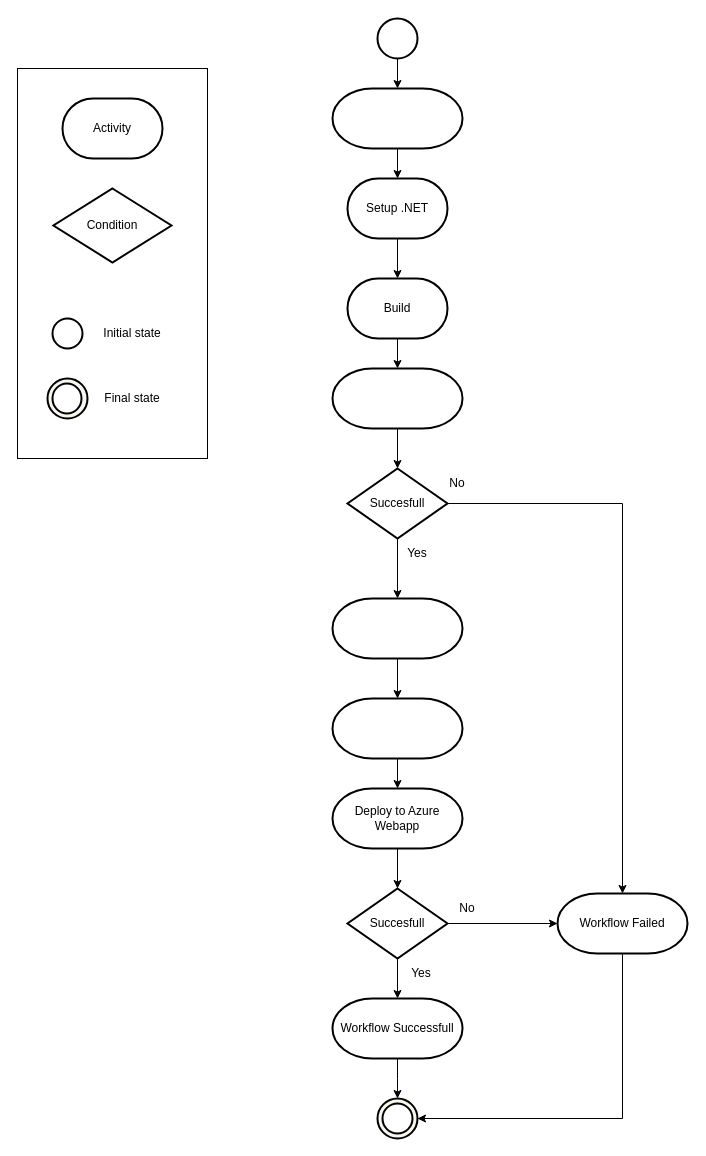
Image size: 706x1156. Some labels were removed from this diagram. Here are the shapes that lost their labels. From the top down, the centre of each, then its label:
point (397, 118): Push to Main
point (397, 398): Publish and upload
point (397, 628): Deploy
point (397, 728): Download Artifact
